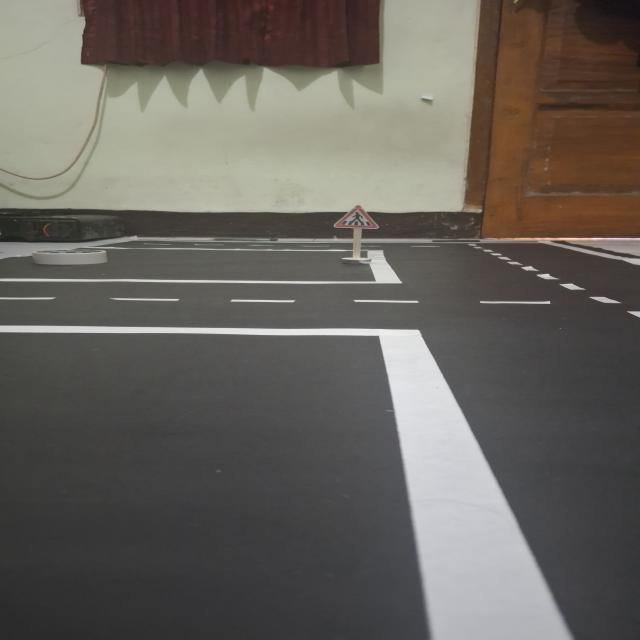Rambu Penyebrangan: (334, 205, 379, 228)
